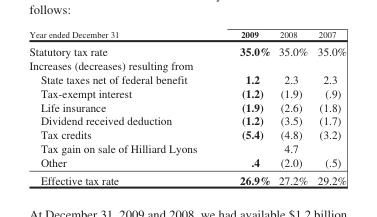table: (28, 29, 346, 186)
table column: (28, 29, 217, 186), (217, 29, 274, 186), (274, 29, 311, 186), (311, 29, 346, 186)
table column header: (28, 29, 346, 41)
table projected row header: (28, 58, 346, 71)
table row: (28, 41, 346, 58), (28, 170, 346, 186), (28, 155, 346, 170), (28, 71, 346, 85), (28, 85, 346, 99), (28, 99, 346, 113), (28, 113, 346, 127), (28, 127, 346, 141), (28, 141, 346, 155), (28, 58, 346, 71), (28, 29, 346, 41)
